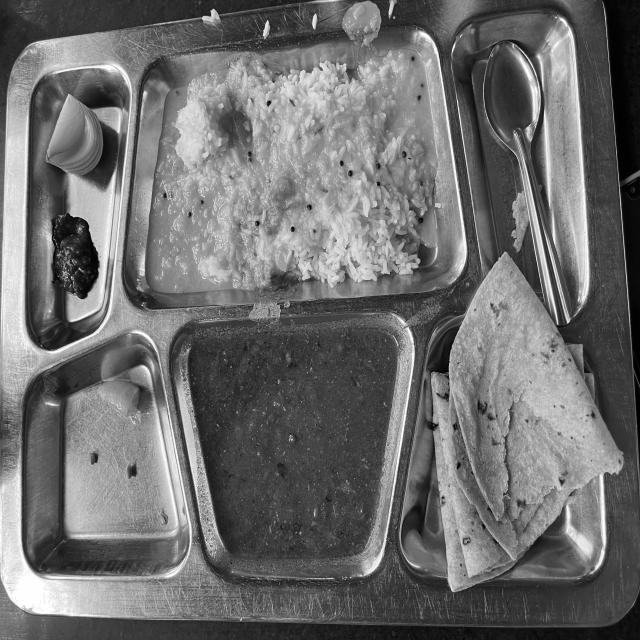70.13- Food Left: (13, 49, 622, 614)
